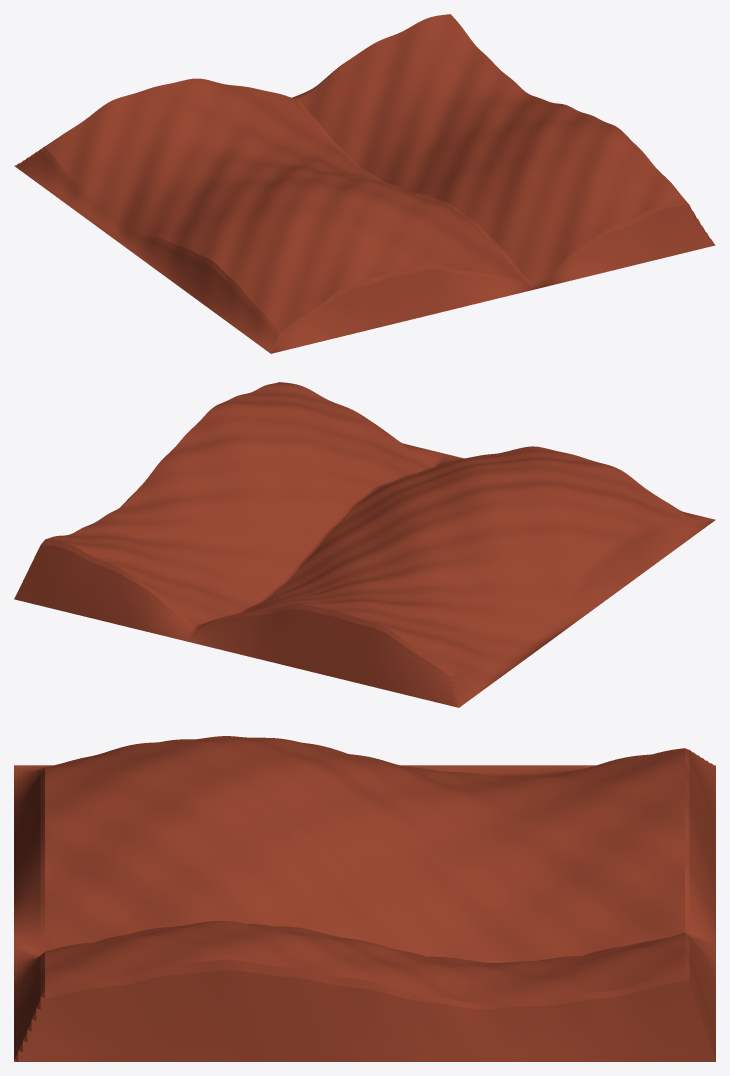
File: amber_red_canyon.obj
3 views of the same model, one above another, from view 1: azimuth 30°, elevation 25°; view 2: azimuth 150°, elevation 25°; view 3: azimuth 270°, elevation 25° (orthographic). The views are drawn at different scales.
Visible parts, largest first — view 1: amber_red_canyon; view 2: amber_red_canyon; view 3: amber_red_canyon.
Part boxes in pixels (x1,y1,x2,y2): amber_red_canyon: [14, 14, 715, 353]; amber_red_canyon: [14, 382, 715, 707]; amber_red_canyon: [14, 736, 715, 1061].
Size of the model in its own units: 160 by 27.72 by 160.
